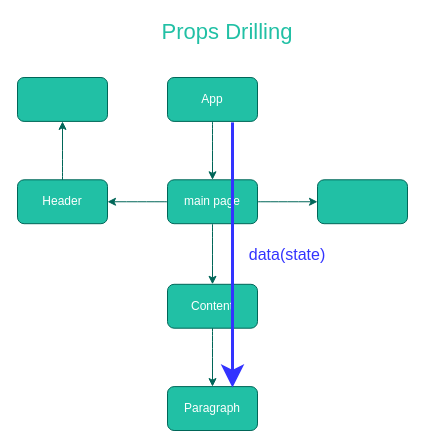
This 425x448 diagram has some shape labels left out. The centre of each missing label's shape, as x and y in pixels:
Footer: point (362, 201)
Navbar: point (62, 98)
